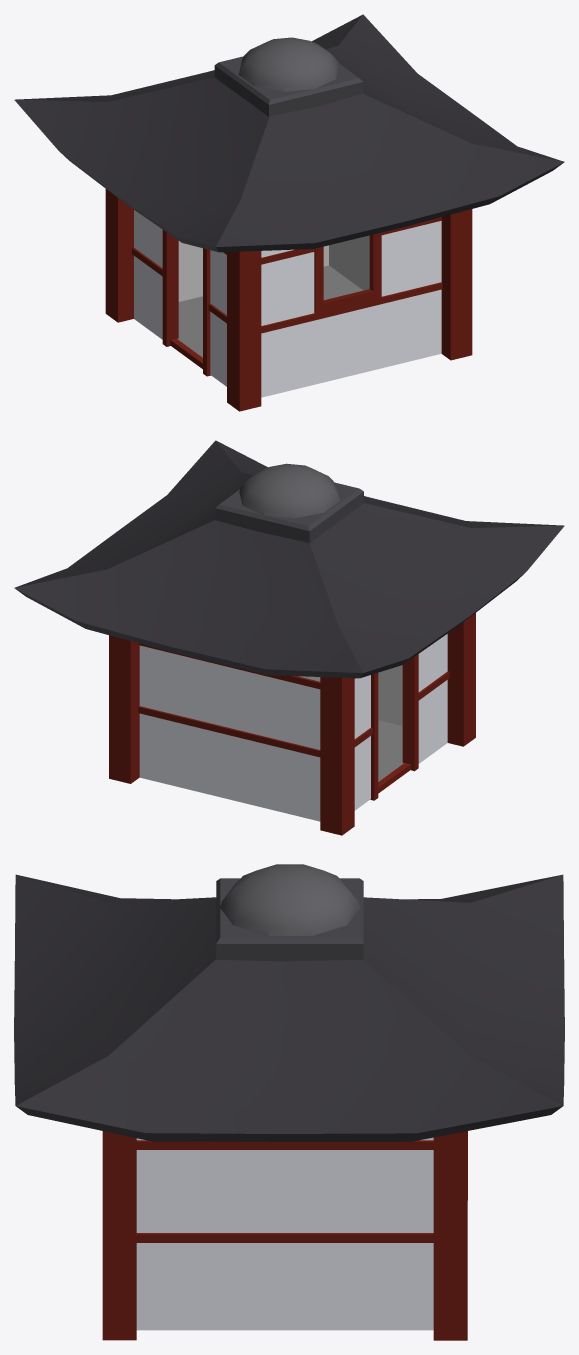
File: Houme04.fbx
3 renders of one model, top to bottom at view 1: azimuth 30°, elevation 25°; view 2: azimuth 150°, elevation 25°; view 3: azimuth 270°, elevation 25°, orthographic. The views are drawn at different scales.
Parts seen in each view (by area): view 1: houme04; view 2: houme04; view 3: houme04.
Boxes of the visible parts, x1,y1,x2,y2 form: houme04: (14,14,564,411); houme04: (14,440,564,835); houme04: (14,864,564,1340).
Bounding box in the file's own units: 879 × 691 × 879.
